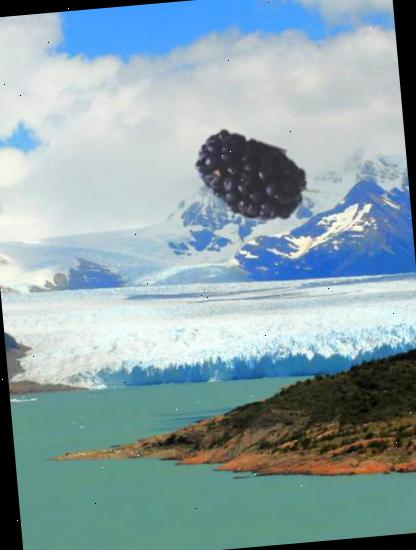Mulberry: (186, 114, 324, 253)
